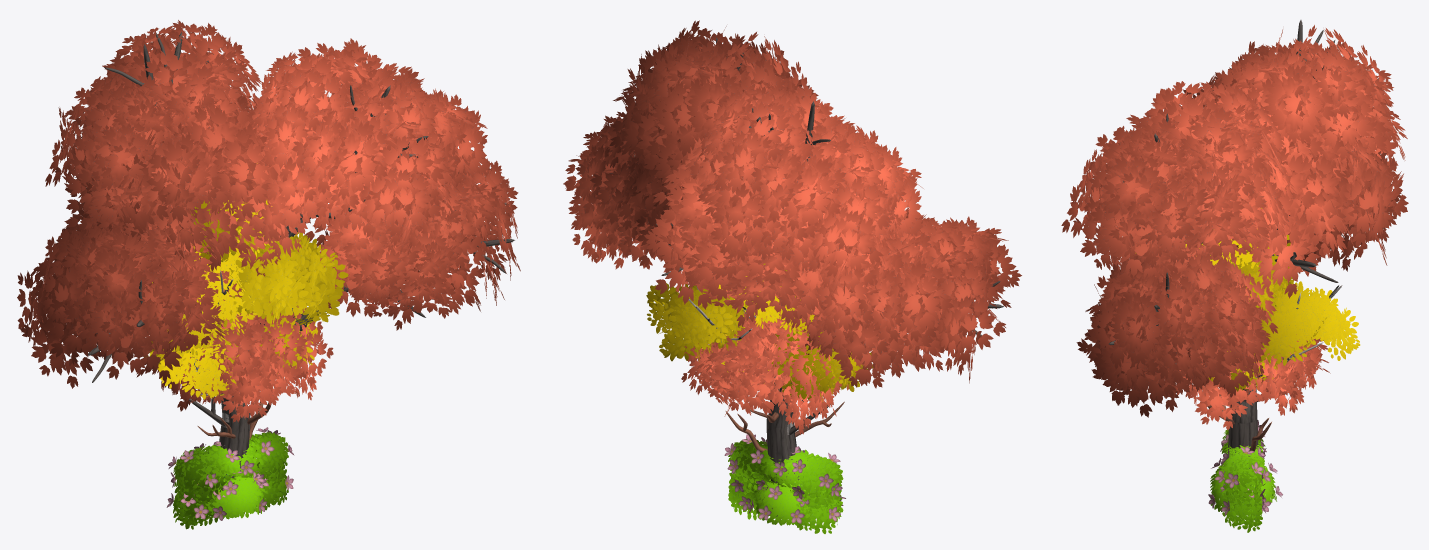
The model's file is flora-DSdvSBw1.glb.
3 renders of one model, left to right at view 1: azimuth 30°, elevation 25°; view 2: azimuth 150°, elevation 25°; view 3: azimuth 270°, elevation 25°, orthographic. The views are drawn at different scales.
Parts seen in each view (by area): view 1: MapleTree_5, MapleTree_1, BirchTree_5, MapleTree_4, Bush_Large_Flowers, Bush_Large, BirchTree_4, BirchTree_1, Bush, Bush_Small; view 2: MapleTree_5, MapleTree_1, MapleTree_4, BirchTree_5, Bush_Large_Flowers, Bush_Large, BirchTree_4, BirchTree_1, Bush, Bush_Small, DeadTree_5; view 3: MapleTree_5, MapleTree_1, BirchTree_5, MapleTree_4, Bush_Large_Flowers, Bush_Large, BirchTree_1, Bush, Bush_Small.
Boxes of the visible parts, bbox=[...] form: MapleTree_5: bbox=[17, 20, 490, 423]; MapleTree_1: bbox=[78, 90, 520, 513]; BirchTree_5: bbox=[152, 200, 348, 427]; MapleTree_4: bbox=[152, 301, 333, 426]; Bush_Large_Flowers: bbox=[168, 427, 294, 525]; Bush_Large: bbox=[173, 432, 286, 524]; BirchTree_4: bbox=[149, 267, 317, 399]; BirchTree_1: bbox=[144, 163, 317, 372]; Bush: bbox=[213, 476, 265, 518]; Bush_Small: bbox=[173, 467, 286, 529]; MapleTree_5: bbox=[609, 20, 1021, 430]; MapleTree_1: bbox=[563, 111, 897, 516]; MapleTree_4: bbox=[681, 311, 861, 434]; BirchTree_5: bbox=[646, 263, 793, 434]; Bush_Large_Flowers: bbox=[724, 434, 842, 524]; Bush_Large: bbox=[728, 441, 843, 530]; BirchTree_4: bbox=[695, 270, 873, 402]; BirchTree_1: bbox=[718, 270, 855, 393]; Bush: bbox=[753, 476, 811, 525]; Bush_Small: bbox=[728, 473, 843, 533]; DeadTree_5: bbox=[725, 376, 844, 452]; MapleTree_5: bbox=[1061, 20, 1407, 423]; MapleTree_1: bbox=[1076, 67, 1408, 468]; BirchTree_5: bbox=[1135, 208, 1360, 377]; MapleTree_4: bbox=[1175, 290, 1330, 430]; Bush_Large_Flowers: bbox=[1220, 420, 1270, 527]; Bush_Large: bbox=[1221, 430, 1264, 528]; BirchTree_1: bbox=[1230, 244, 1291, 391]; Bush: bbox=[1210, 461, 1276, 511]; Bush_Small: bbox=[1221, 484, 1262, 532].
Bounding box in the file's own units: 7.76 × 7.53 × 5.1.
Materials: 8 (8 with a texture image).
